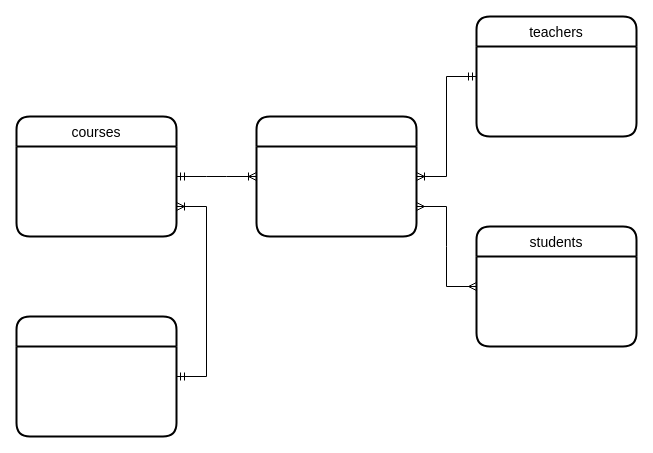
The diagram is 653 pixels wide and 453 high, and some of its shapes have lost their labels. The centre of each missing label's shape, as x and y in pixels:
departments: the point at 96,376
subjects: the point at 336,176
